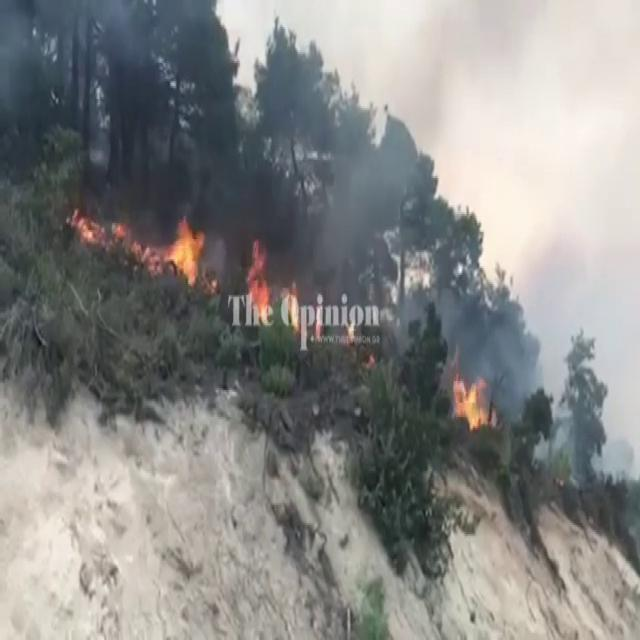Fire: (242, 239, 302, 333), (157, 213, 210, 292), (449, 364, 496, 436)
Smoke: (218, 112, 588, 422)
